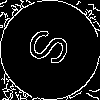S: (25, 25, 80, 74)
